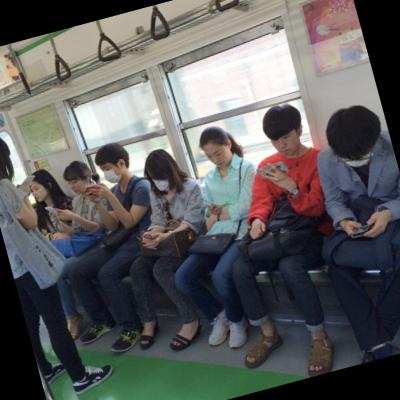with_mask: (102, 162, 124, 186), (150, 173, 172, 196)
without_mask: (269, 131, 301, 160), (204, 144, 233, 170), (66, 175, 89, 197), (29, 183, 48, 204)
